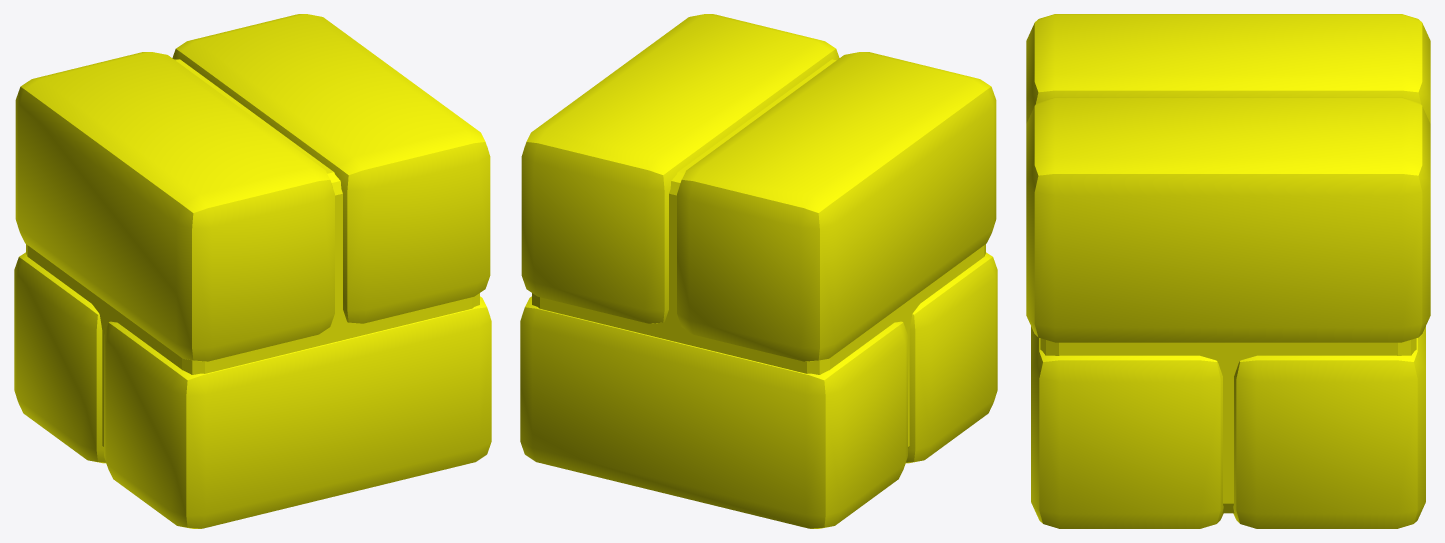
Rendered from Block_Brick.glb.
The picture shows the model from 3 angles, left to right: view 1: azimuth 30°, elevation 25°; view 2: azimuth 150°, elevation 25°; view 3: azimuth 270°, elevation 25°; orthographic projection. The views are drawn at different scales.
Visible parts, largest first — view 1: Block_Brick; view 2: Block_Brick; view 3: Block_Brick.
Part boxes in pixels (x1,y1,x2,y2): Block_Brick: (14, 14, 491, 528); Block_Brick: (520, 14, 997, 528); Block_Brick: (1026, 14, 1430, 528).
Bounding box in the file's own units: 1.97 × 1.98 × 1.97.
Materials: 1 (1 with a texture image).
